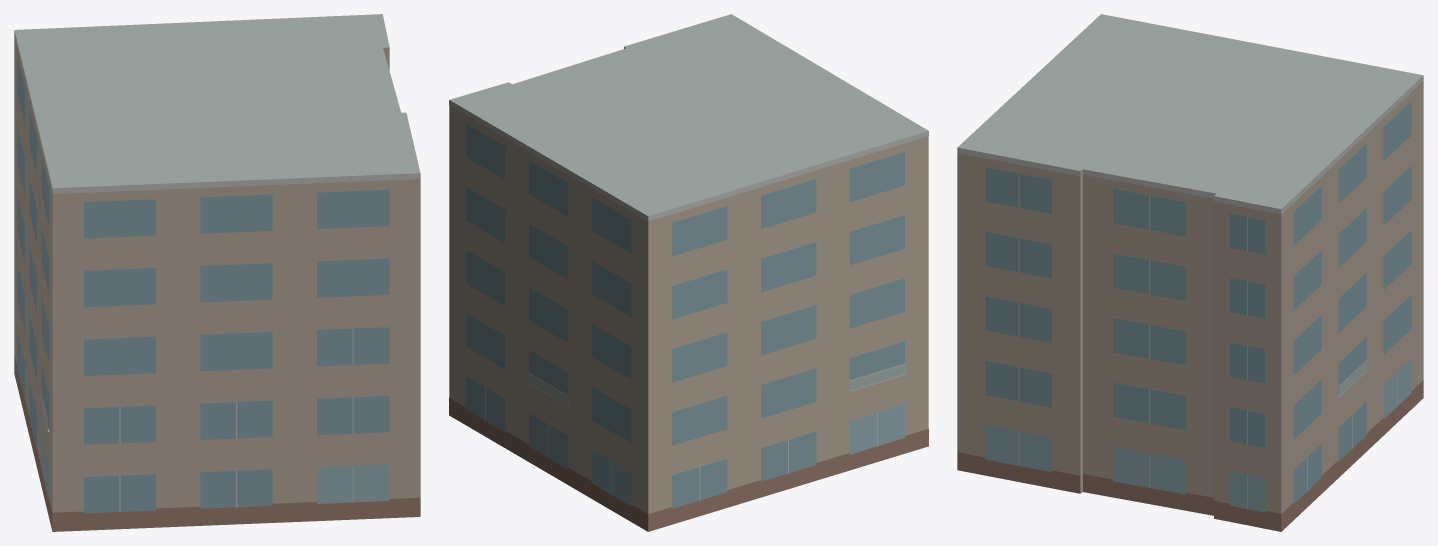
File: survey-upis-32860622.glb
The picture shows the model from 3 angles, left to right: view 1: azimuth 30°, elevation 25°; view 2: azimuth 150°, elevation 25°; view 3: azimuth 270°, elevation 25°; orthographic projection. The views are drawn at different scales.
Parts seen in each view (by area): view 1: survey-upis-32860622.tmp; view 2: survey-upis-32860622.tmp; view 3: survey-upis-32860622.tmp.
Part boxes in pixels (x1,y1,x2,y2): survey-upis-32860622.tmp: (14,14,420,531); survey-upis-32860622.tmp: (449,14,928,531); survey-upis-32860622.tmp: (957,14,1423,531).
Bounding box in the file's own units: 18.83 × 14.5 × 19.01.
